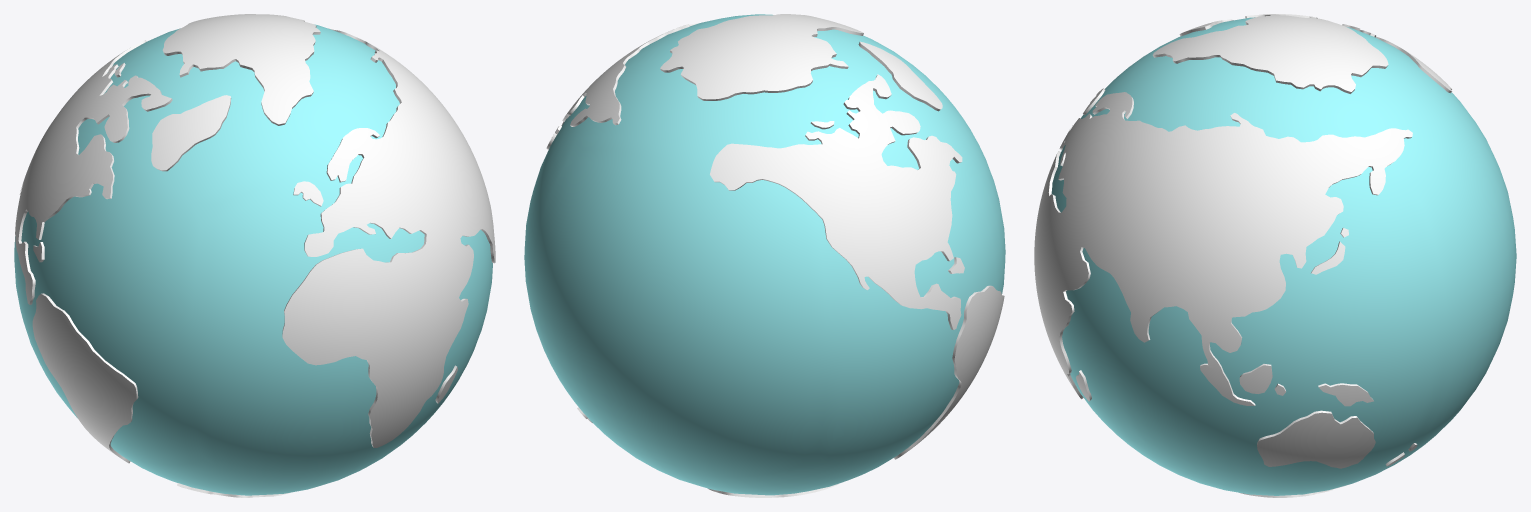
Rendered from M_earth.fbx.
3 views of the same model, side by side, from view 1: azimuth 30°, elevation 25°; view 2: azimuth 150°, elevation 25°; view 3: azimuth 270°, elevation 25° (orthographic).
Visible parts, largest first — view 1: Ocean, CONT_Extrude, SP_Extrude; view 2: Ocean, CONT_Extrude, SP_Extrude; view 3: Ocean, CONT_Extrude, SP_Extrude.
Part boxes in pixels (left/top/right/bottom): Ocean: left=14, top=24, right=492, bottom=495; CONT_Extrude: left=15, top=28, right=495, bottom=463; SP_Extrude: left=162, top=14, right=320, bottom=125; Ocean: left=524, top=14, right=1005, bottom=495; CONT_Extrude: left=546, top=23, right=1004, bottom=459; SP_Extrude: left=660, top=14, right=863, bottom=100; Ocean: left=1051, top=17, right=1516, bottom=495; CONT_Extrude: left=1034, top=14, right=1452, bottom=468; SP_Extrude: left=1152, top=14, right=1388, bottom=93.
Size of the model in its own units: 10 by 10 by 9.95.
